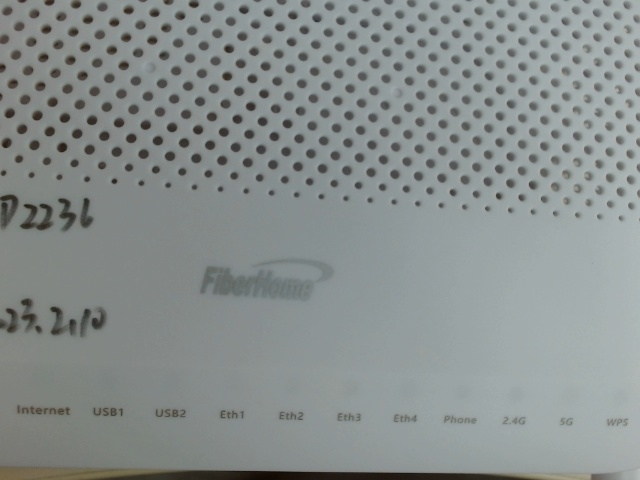AI_FiberHome: (198, 243, 342, 309)
